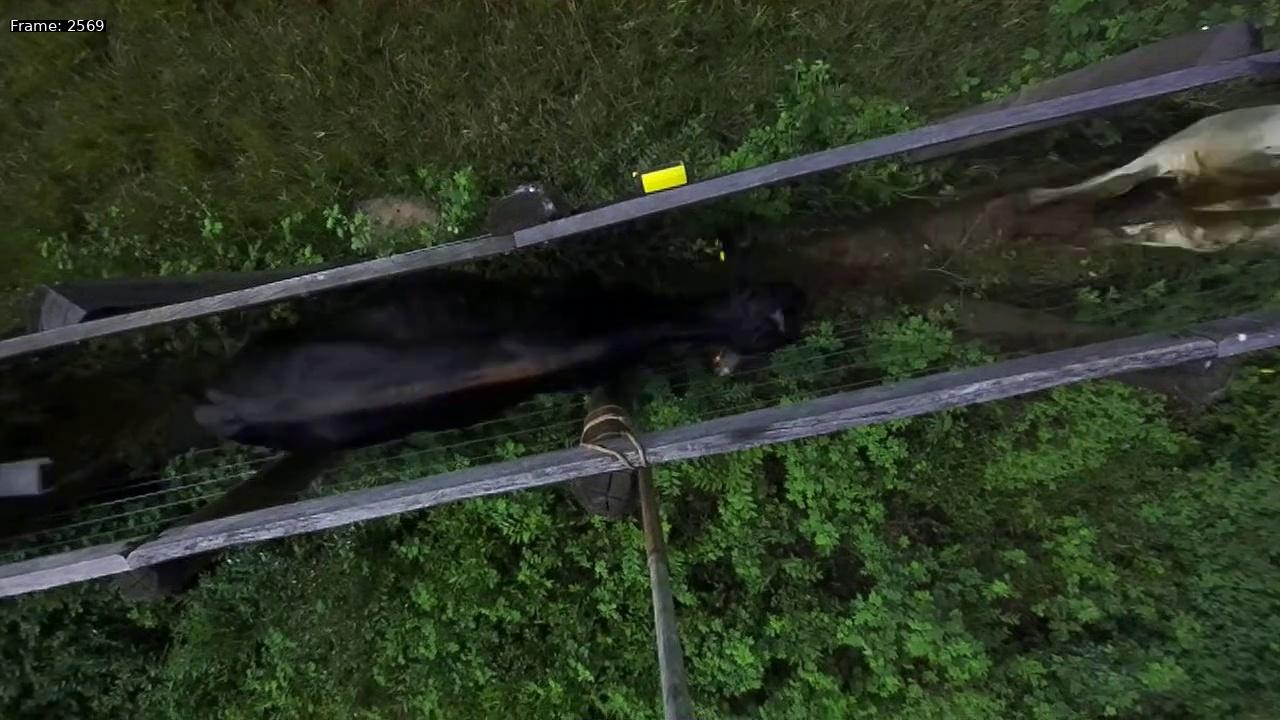cattle: (180, 204, 805, 464)
